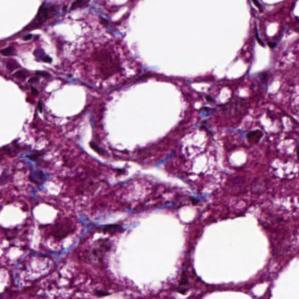inflammation: (2, 29, 54, 86), (246, 16, 291, 54)
